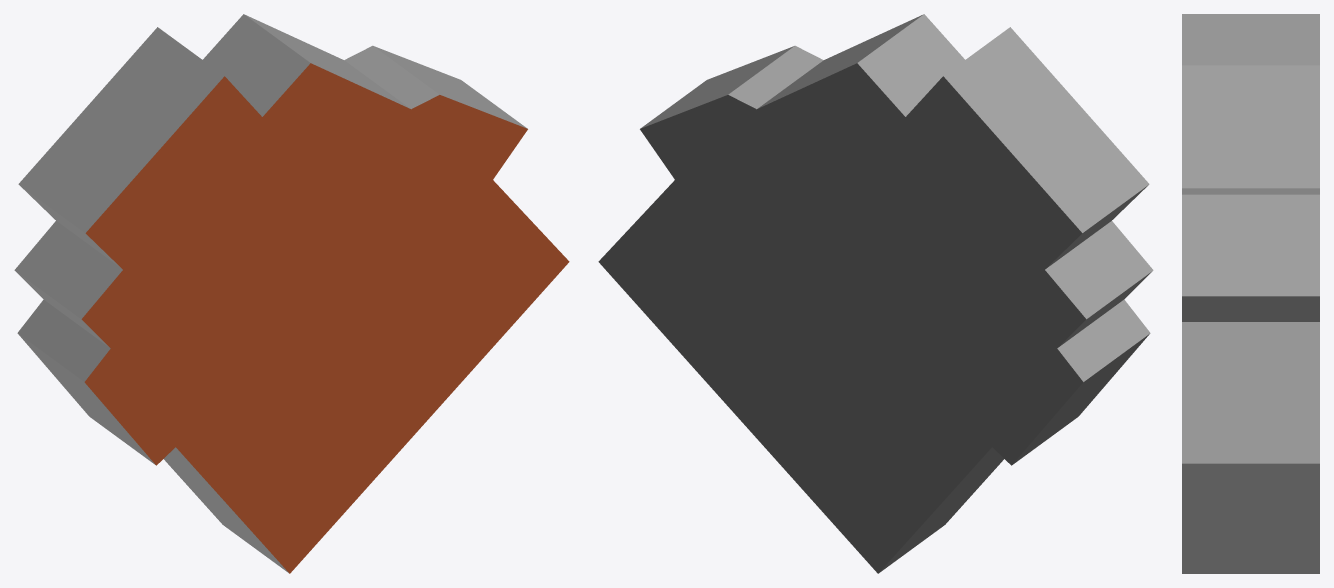
The model's file is construction_2946_assumed_A_Casa_h6m.obj.
3 views of the same model, side by side, from view 1: azimuth 30°, elevation 25°; view 2: azimuth 150°, elevation 25°; view 3: azimuth 270°, elevation 25° (orthographic). The views are drawn at different scales.
Visible parts, largest first — view 1: construction_2946_assumed_A_Casa; view 2: construction_2946_assumed_A_Casa; view 3: construction_2946_assumed_A_Casa.
Boxes of the visible parts, box(x1,y1,x2,y2) form: construction_2946_assumed_A_Casa: box(14, 14, 569, 573); construction_2946_assumed_A_Casa: box(598, 14, 1153, 573); construction_2946_assumed_A_Casa: box(1182, 14, 1319, 573).
Size of the model in its own units: 25.21 by 25.35 by 6.
